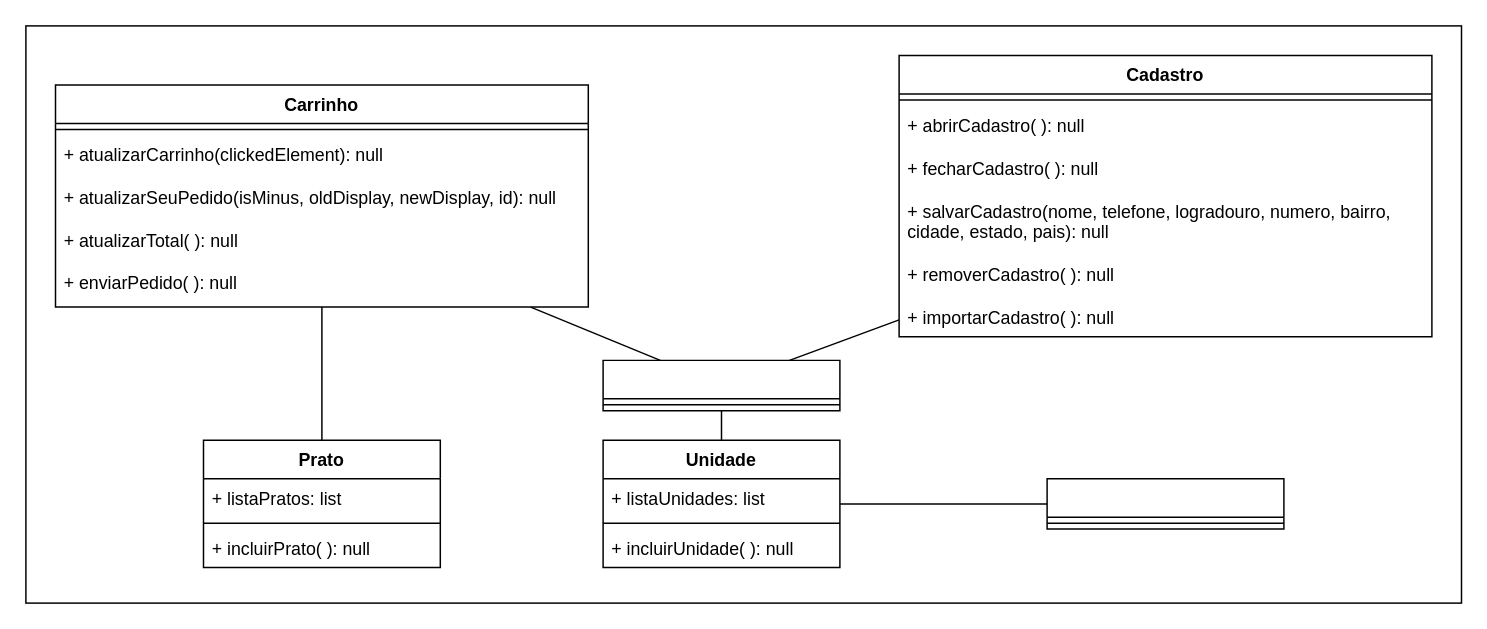
This 1487x629 diagram has some shape labels left out. Each missing label, with the centre of its shape:
Gatatouille: pixel 1165 503
Pedido: pixel 721 385
